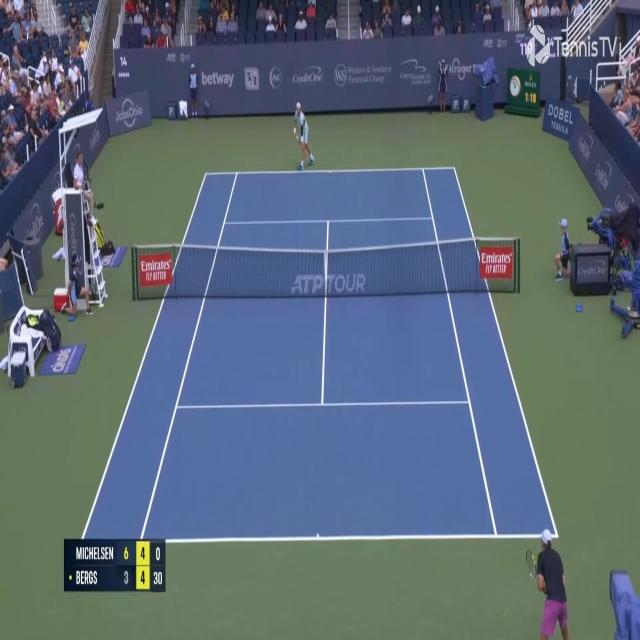tennis-player: (524, 528, 575, 639), (291, 98, 317, 172)
